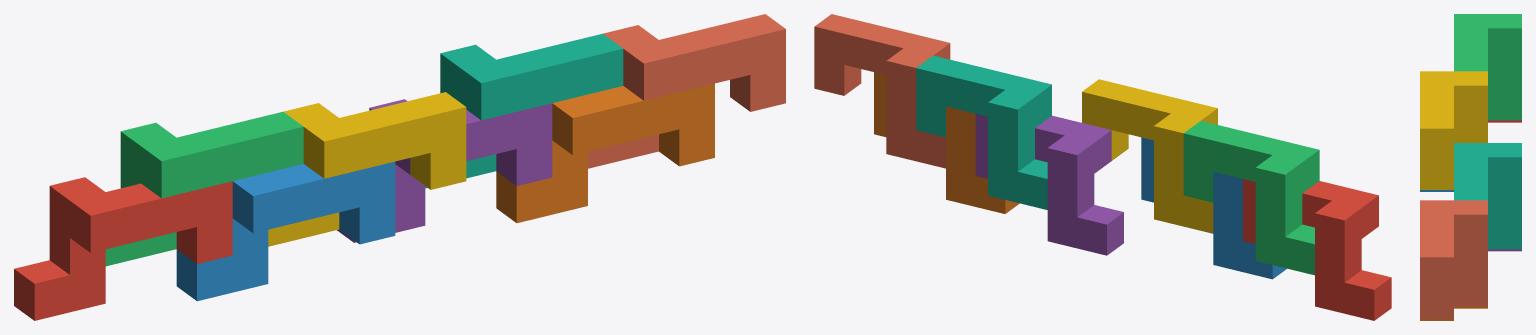
File: tiling.obj
The picture shows the model from 3 angles, left to right: view 1: azimuth 30°, elevation 25°; view 2: azimuth 150°, elevation 25°; view 3: azimuth 270°, elevation 25°; orthographic projection. The views are drawn at different scales.
Visible parts, largest first — view 1: copy_1_domain_1, copy_1_domain_2, copy_1_domain_6, copy_1_domain_4, copy_1_domain_8, copy_1_domain_3, copy_1_domain_7, copy_1_domain_5; view 2: copy_1_domain_3, copy_1_domain_7, copy_1_domain_8, copy_1_domain_5, copy_1_domain_1, copy_1_domain_4, copy_1_domain_2, copy_1_domain_6; view 3: copy_1_domain_8, copy_1_domain_4, copy_1_domain_3, copy_1_domain_7, copy_1_domain_6, copy_1_domain_1, copy_1_domain_5.
Boxes of the visible parts, x1,y1,x2,y2 form: copy_1_domain_1: (14,177,232,320); copy_1_domain_2: (176,161,395,301); copy_1_domain_6: (496,83,714,223); copy_1_domain_4: (268,92,466,246); copy_1_domain_8: (588,14,785,168); copy_1_domain_3: (105,111,303,266); copy_1_domain_7: (425,33,623,188); copy_1_domain_5: (337,99,552,242); copy_1_domain_3: (1183,121,1319,275); copy_1_domain_7: (916,55,1051,209); copy_1_domain_8: (814,14,950,168); copy_1_domain_5: (975,114,1123,255); copy_1_domain_1: (1243,179,1391,320); copy_1_domain_4: (1082,79,1217,233); copy_1_domain_2: (1141,137,1286,279); copy_1_domain_6: (874,72,1019,213); copy_1_domain_8: (1420,200,1487,318); copy_1_domain_4: (1420,71,1487,189); copy_1_domain_3: (1454,14,1521,120); copy_1_domain_7: (1454,143,1521,249); copy_1_domain_6: (1420,306,1487,320); copy_1_domain_1: (1488,120,1521,122); copy_1_domain_5: (1488,249,1521,251).
Bounding box in the file's own units: 20 × 4 × 3.
